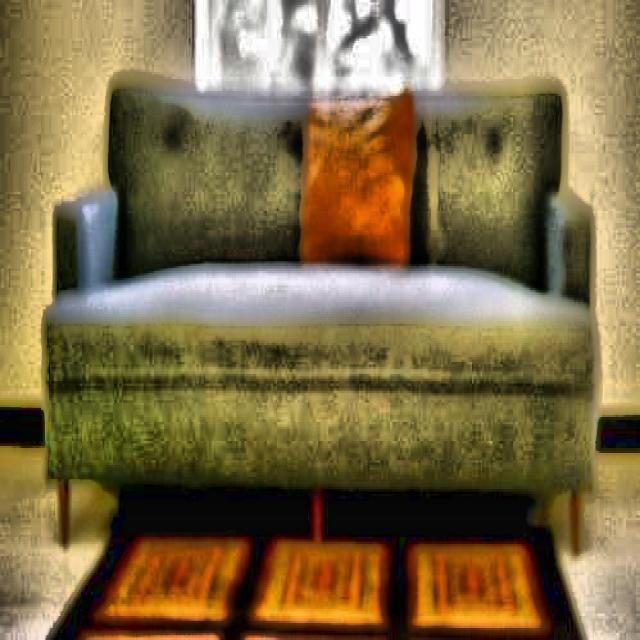sofa: (42, 84, 598, 503)
